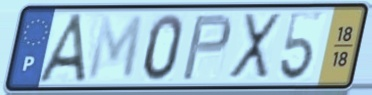0: (142, 11, 187, 84)
5: (277, 9, 330, 84)
A: (34, 11, 91, 86)
M: (84, 13, 146, 83)
P: (179, 12, 234, 83)
X: (225, 11, 284, 83)
